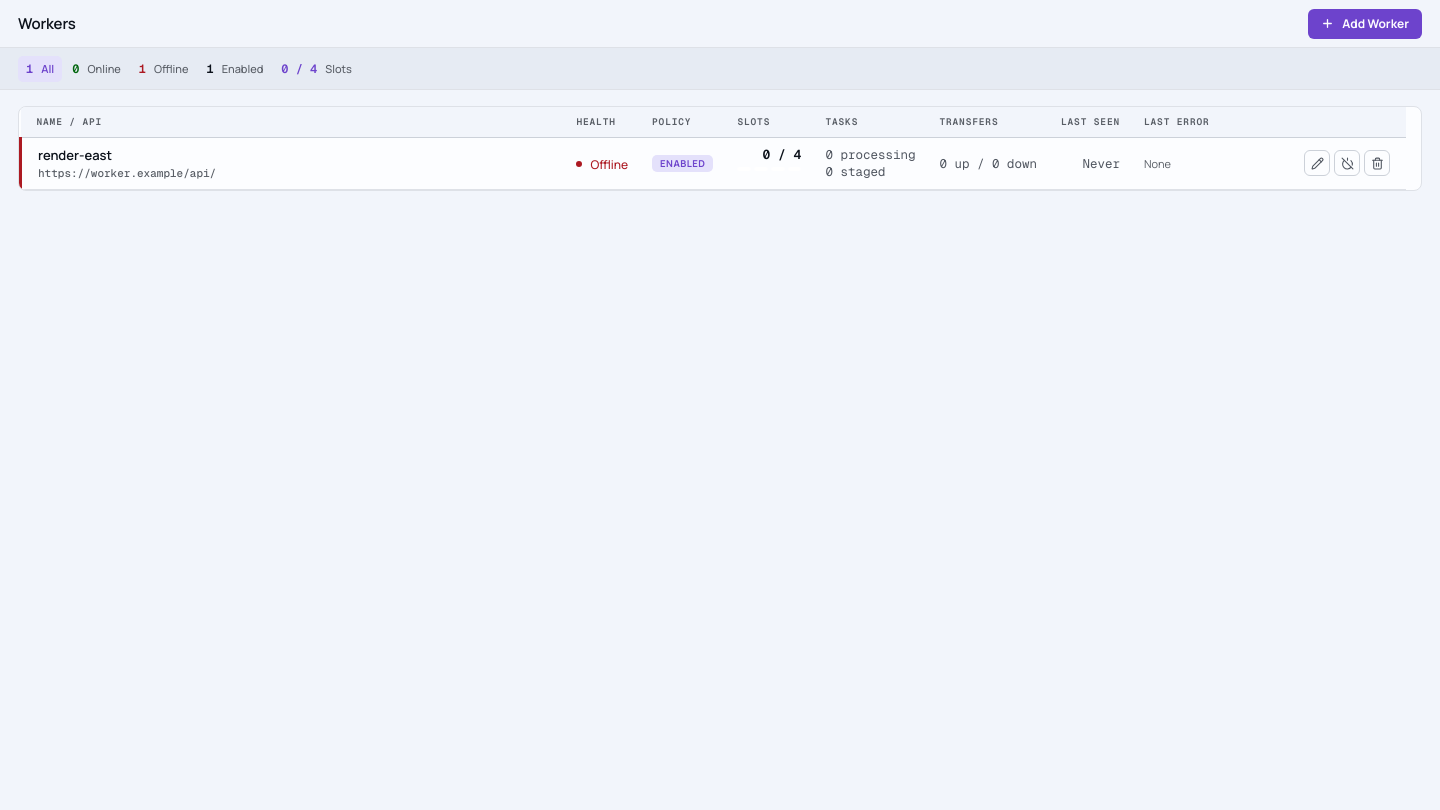
Test: Workers page › contains worker deletion focus and restores the invoking row action
// deletion is opened, keyboard focus wraps, and Escape cancels.
Click the button named "Delete render-east". click: x=1377, y=163
box: [1364,150,1390,176]
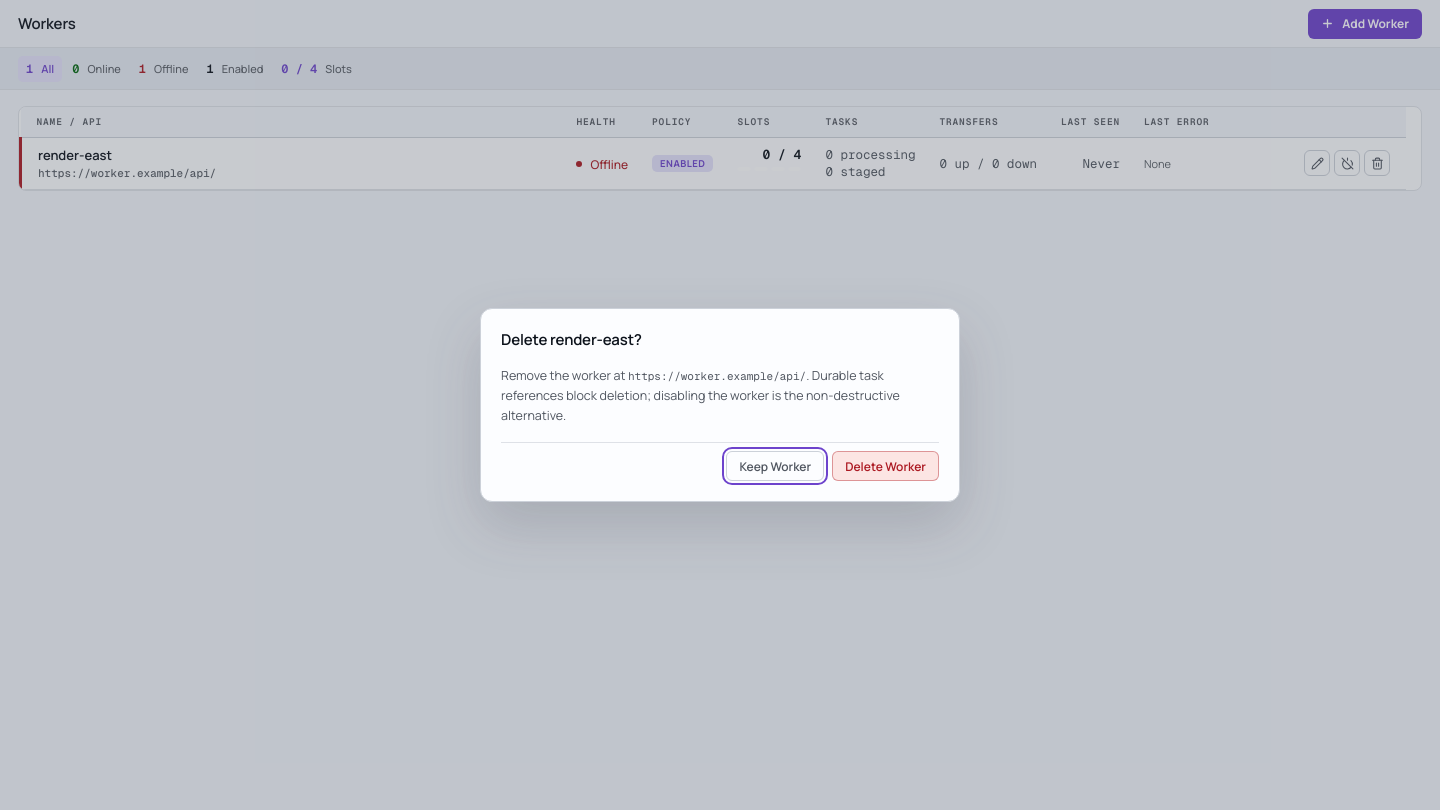
Press Tab in the dialog "Delete render-east?", box [480,308,960,502]
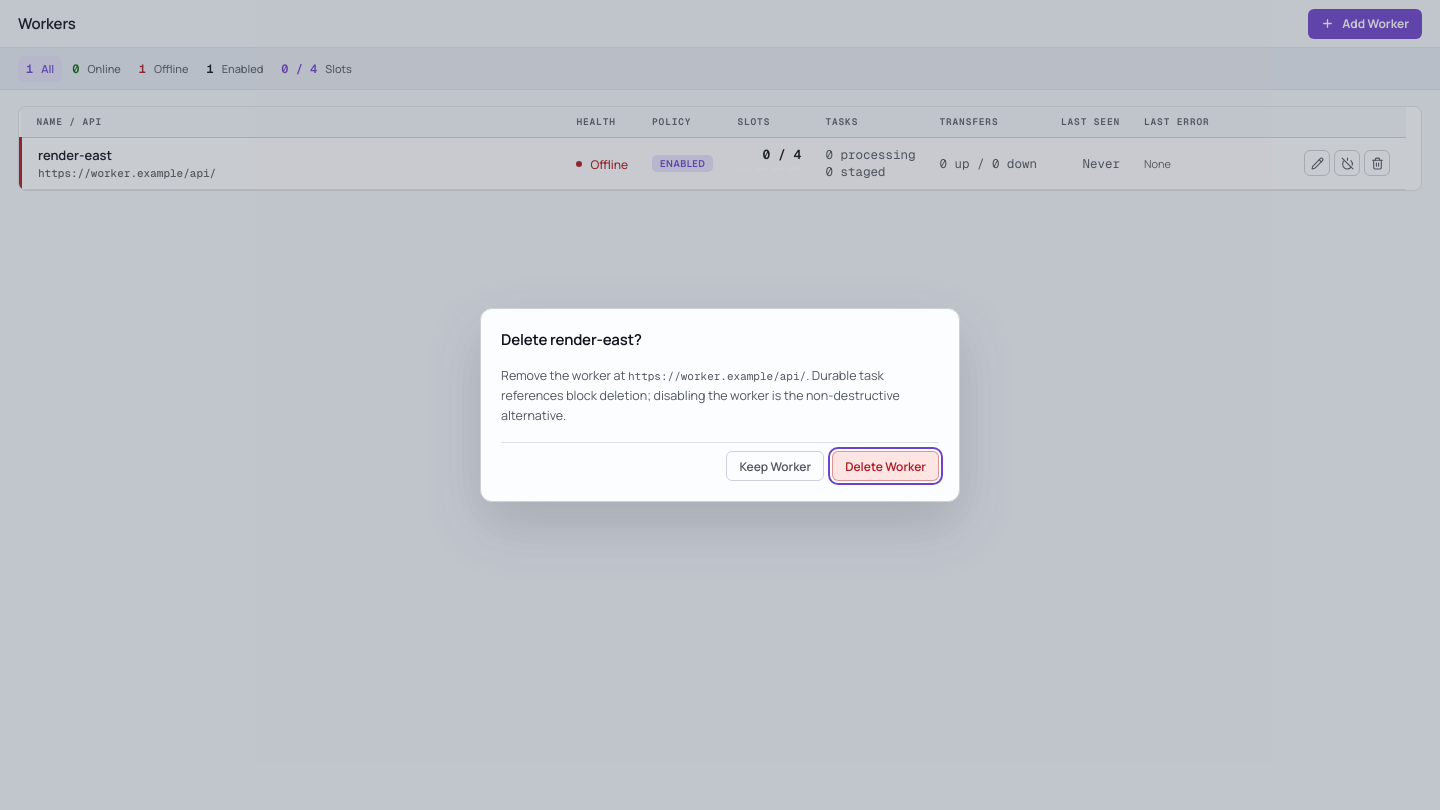
Press Tab in the dialog "Delete render-east?", box [480,308,960,502]
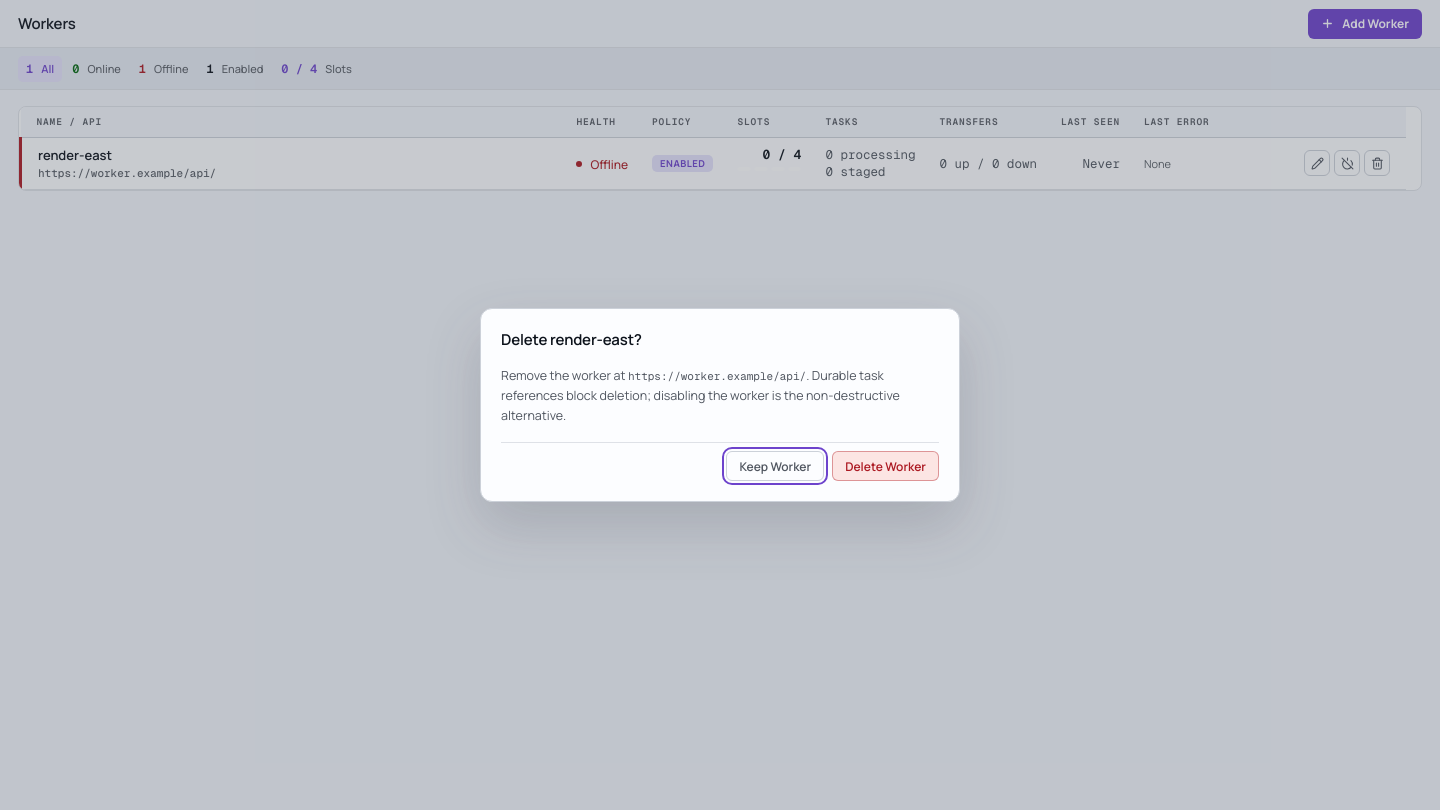
Press Escape in the dialog "Delete render-east?", box [480,308,960,502]
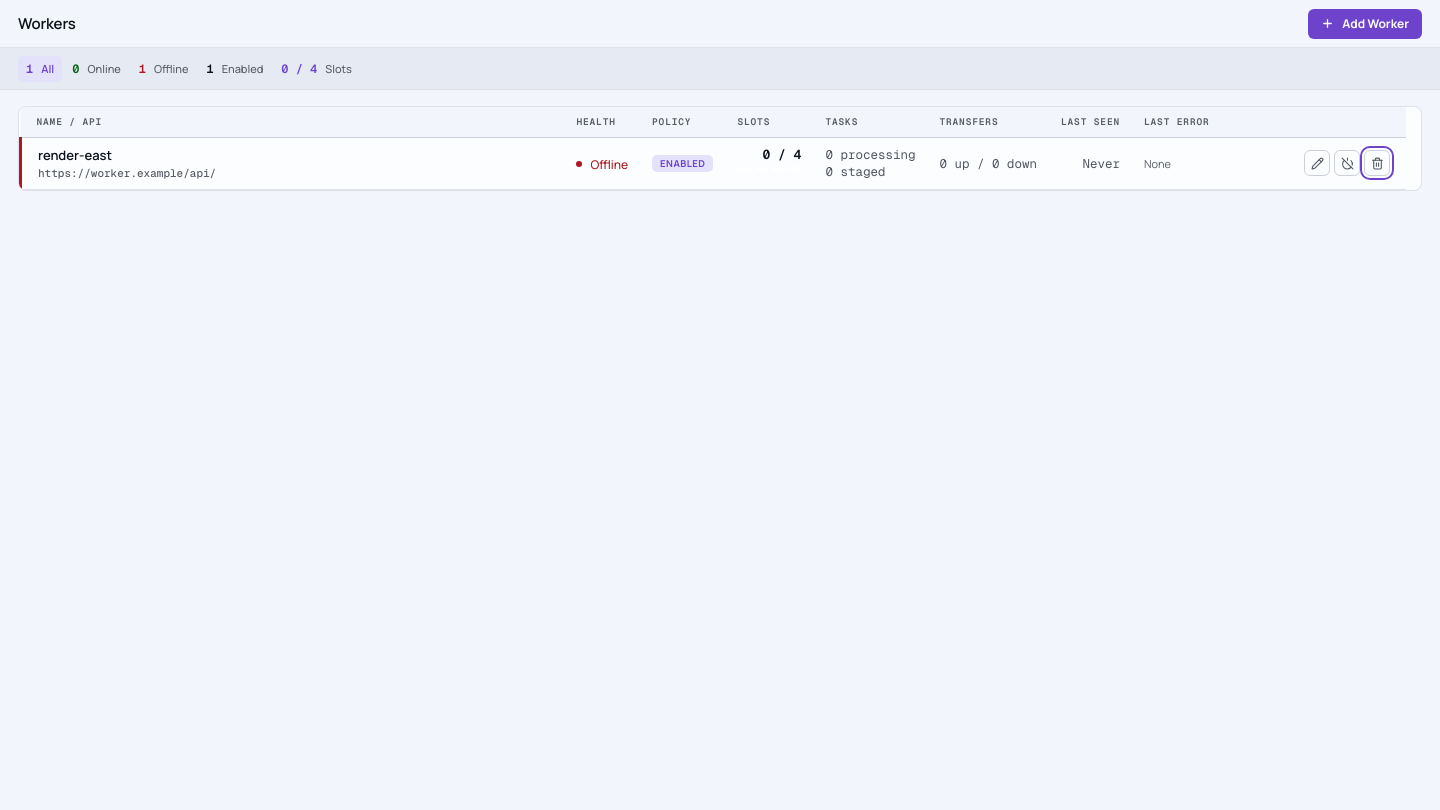
Result: the heading "Delete render-east?" is gone
